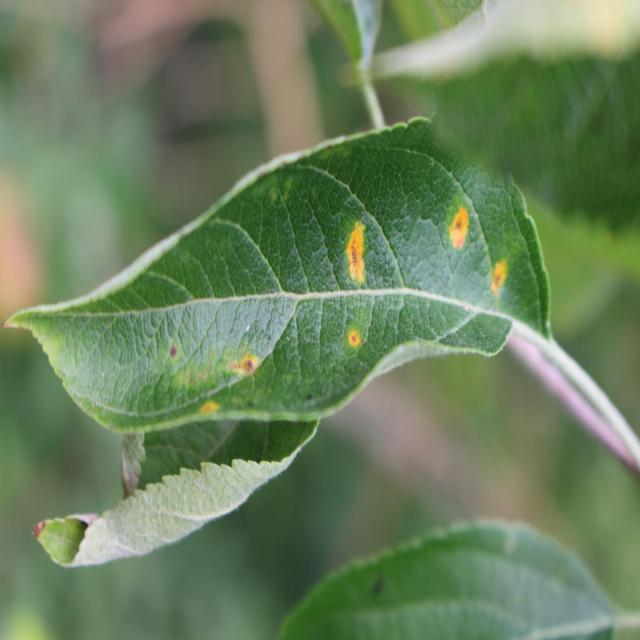Rust: (439, 191, 474, 256), (346, 207, 370, 295), (484, 255, 514, 316), (188, 391, 236, 429), (232, 344, 263, 386), (345, 322, 369, 359)
